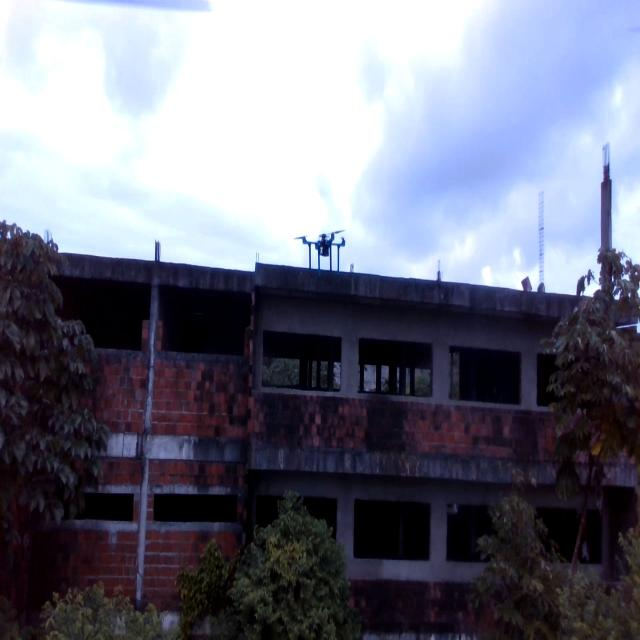-uav-: (288, 218, 362, 295)
